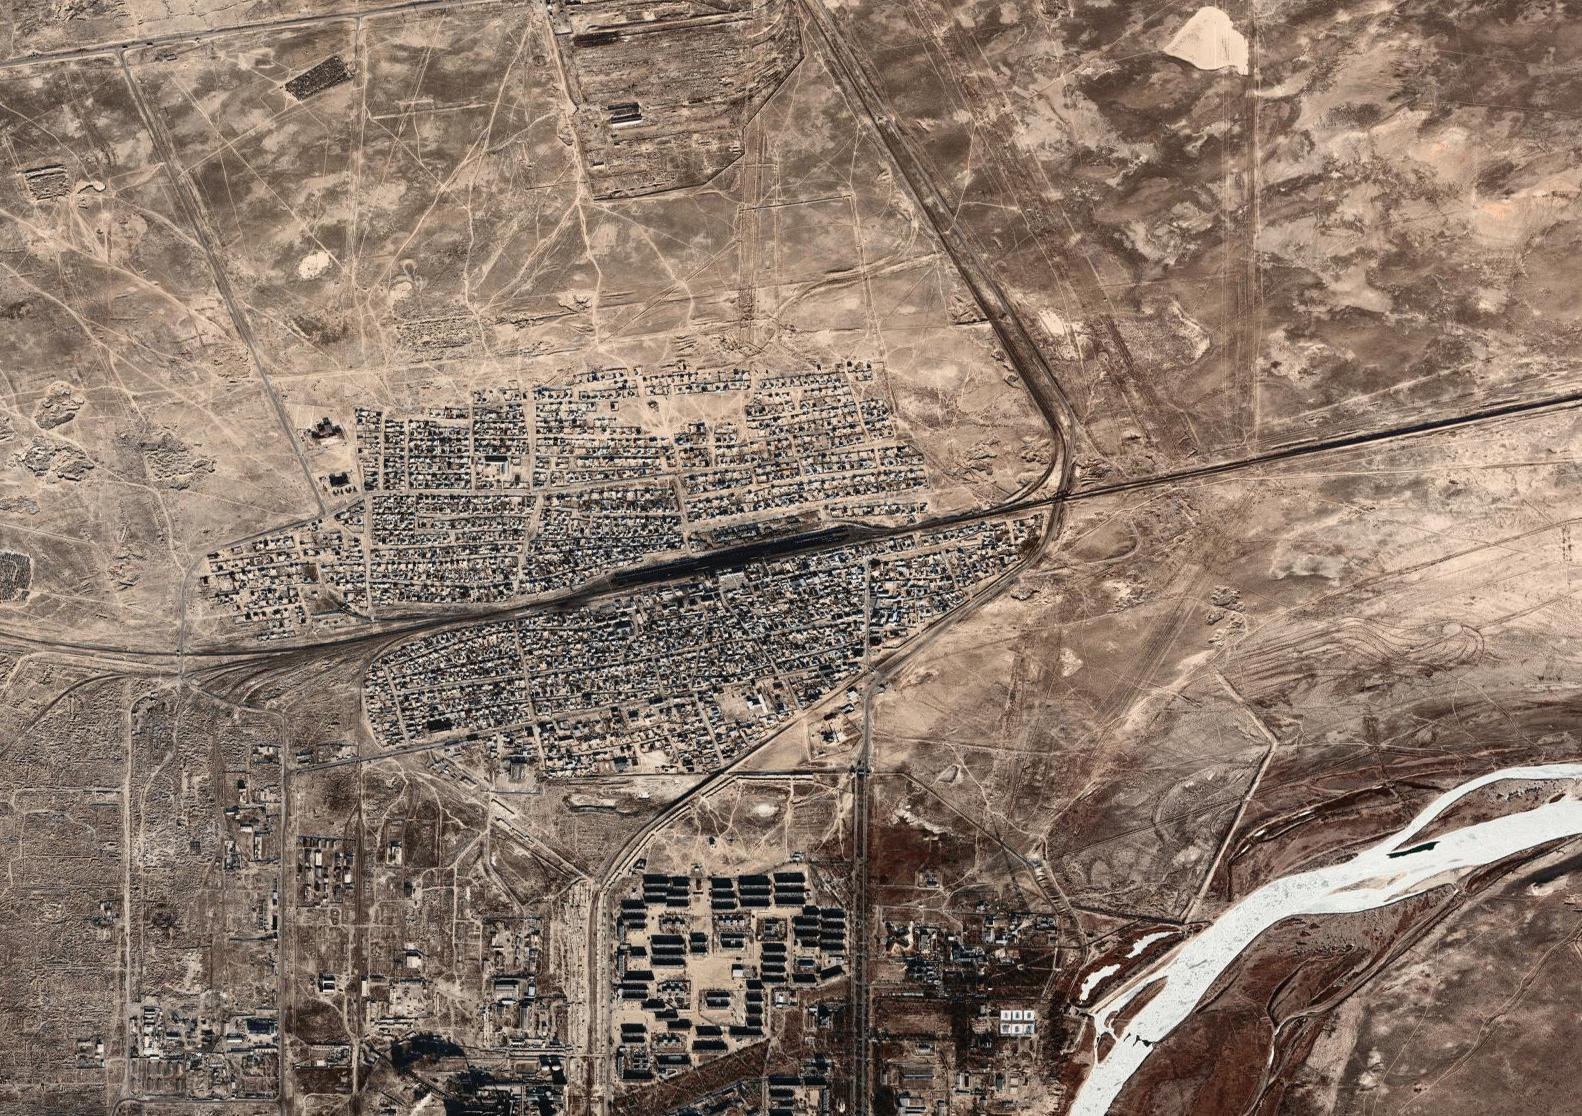train_station: (621, 533, 820, 593)
